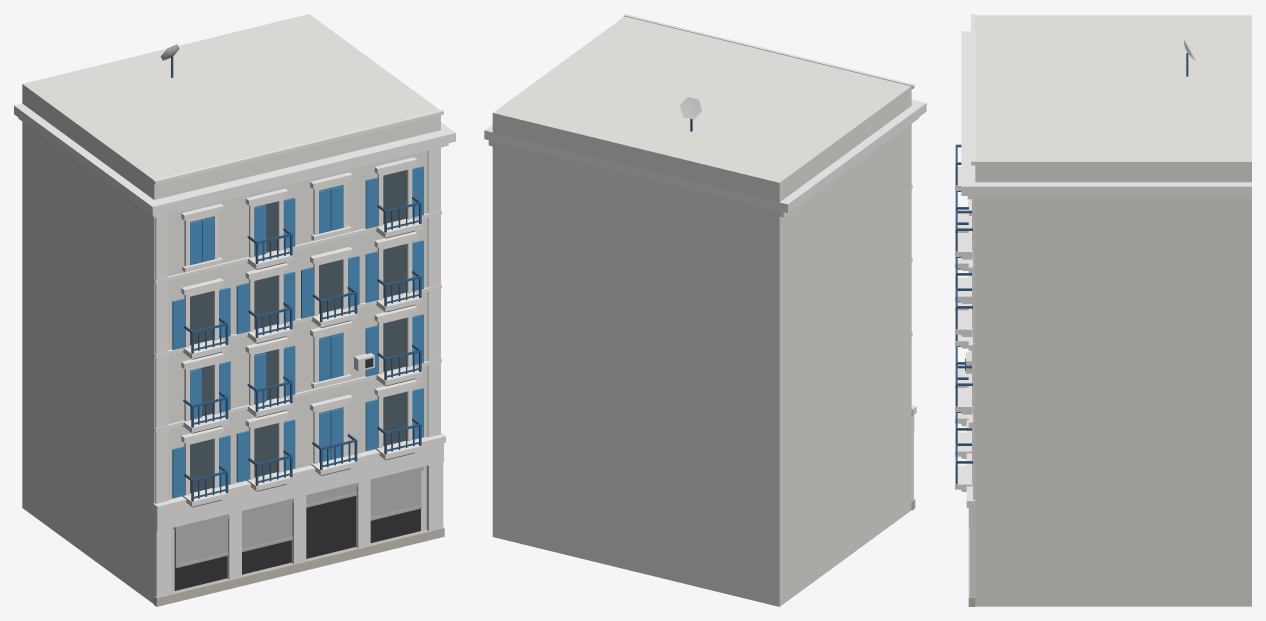
Rendered from bb_building_a.fbx.
3 views of the same model, side by side, from view 1: azimuth 30°, elevation 25°; view 2: azimuth 150°, elevation 25°; view 3: azimuth 270°, elevation 25° (orthographic). The views are drawn at different scales.
Visible parts, largest first — view 1: bb_building_a; view 2: bb_building_a; view 3: bb_building_a.
Boxes of the visible parts, x1,y1,x2,y2 form: bb_building_a: [14, 14, 455, 606]; bb_building_a: [484, 14, 926, 606]; bb_building_a: [955, 14, 1251, 606].
Size of the model in its own units: 14.6 by 21.01 by 11.8.
